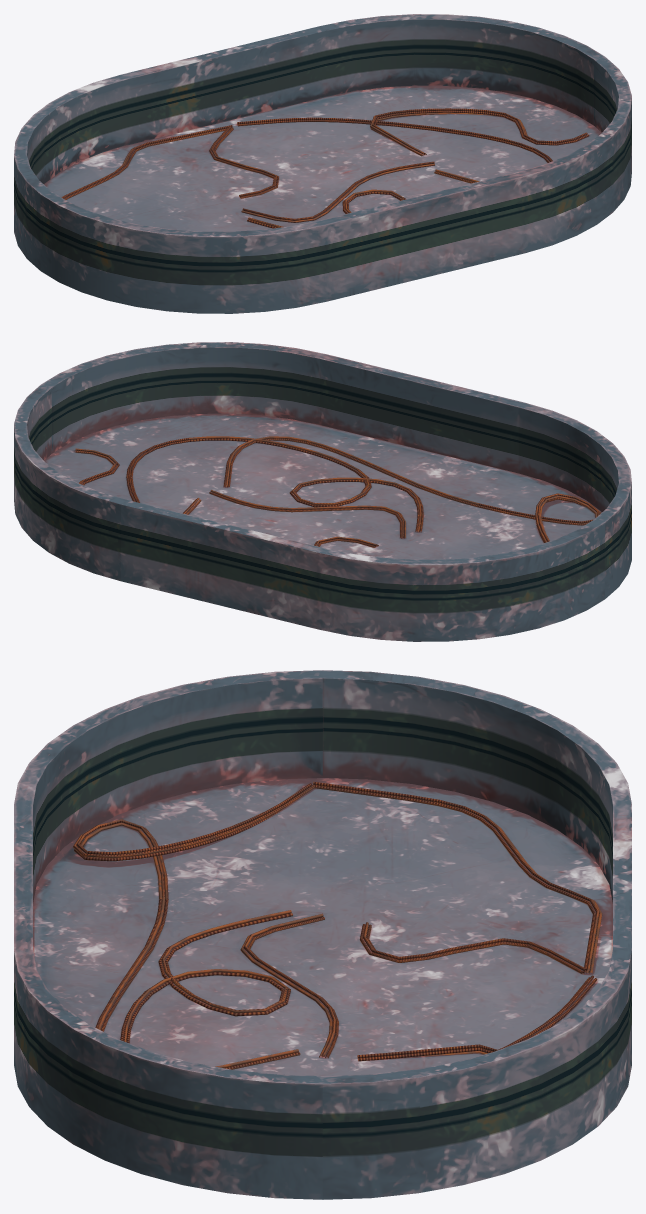
File: Map_Cables.fbx
3 views of the same model, one above another, from view 1: azimuth 30°, elevation 25°; view 2: azimuth 150°, elevation 25°; view 3: azimuth 270°, elevation 25° (orthographic). The views are drawn at different scales.
Visible parts, largest first — view 1: Batiment2, Cables, Cables3, Cables1, Cables5, Cables4; view 2: Batiment2, Cables, Cables2, Cables1, Cables3; view 3: Batiment2, Cables2, Cables, Cables5, Cables1, Cables4, Cables3.
Boxes of the visible parts, <box> form: Batiment2: <box>14,14,631,313</box>; Cables: <box>237,117,552,228</box>; Cables3: <box>370,108,589,156</box>; Cables1: <box>241,161,434,222</box>; Cables5: <box>61,125,232,199</box>; Cables4: <box>209,126,278,198</box>; Batiment2: <box>14,342,631,641</box>; Cables: <box>126,436,423,532</box>; Cables2: <box>223,436,600,542</box>; Cables1: <box>209,490,405,538</box>; Cables3: <box>75,448,201,514</box>; Batiment2: <box>14,670,631,1199</box>; Cables2: <box>73,783,314,1069</box>; Cables: <box>120,910,597,1049</box>; Cables5: <box>312,781,602,974</box>; Cables1: <box>240,913,338,1058</box>; Cables4: <box>360,922,586,973</box>; Cables3: <box>357,1044,497,1061</box>.
Bounding box in the file's own units: 62.51 × 8.12 × 39.41.
